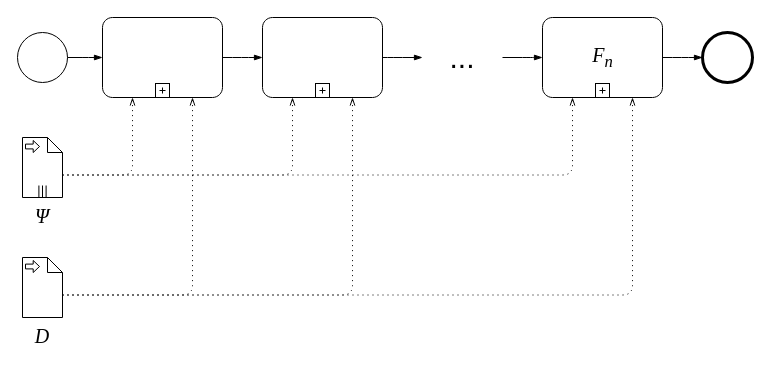
This 770x366 diagram has some shape labels left out. Here are the shapes that lost their labels. From the top down, the centre of each, then its label:
At point 162,57: "F 1".
At point 322,57: "F 2".
